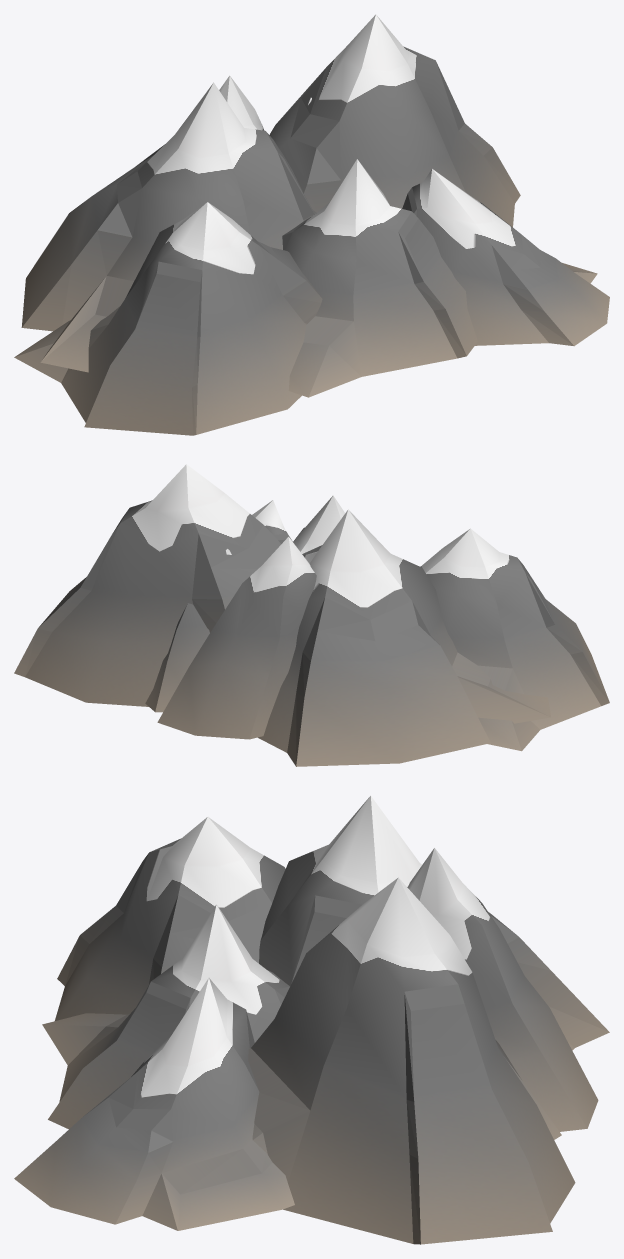
The model's file is Mountain range.fbx.
3 renders of one model, top to bottom at view 1: azimuth 30°, elevation 25°; view 2: azimuth 150°, elevation 25°; view 3: azimuth 270°, elevation 25°, orthographic. The views are drawn at different scales.
Visible parts, largest first — view 1: Mountain002; view 2: Mountain002; view 3: Mountain002.
Boxes of the visible parts, left/top/right/bottom form: Mountain002: left=14, top=14, right=609, bottom=435; Mountain002: left=14, top=464, right=609, bottom=766; Mountain002: left=14, top=795, right=609, bottom=1244.
Bounding box in the file's own units: 116 × 51.52 × 90.65.
